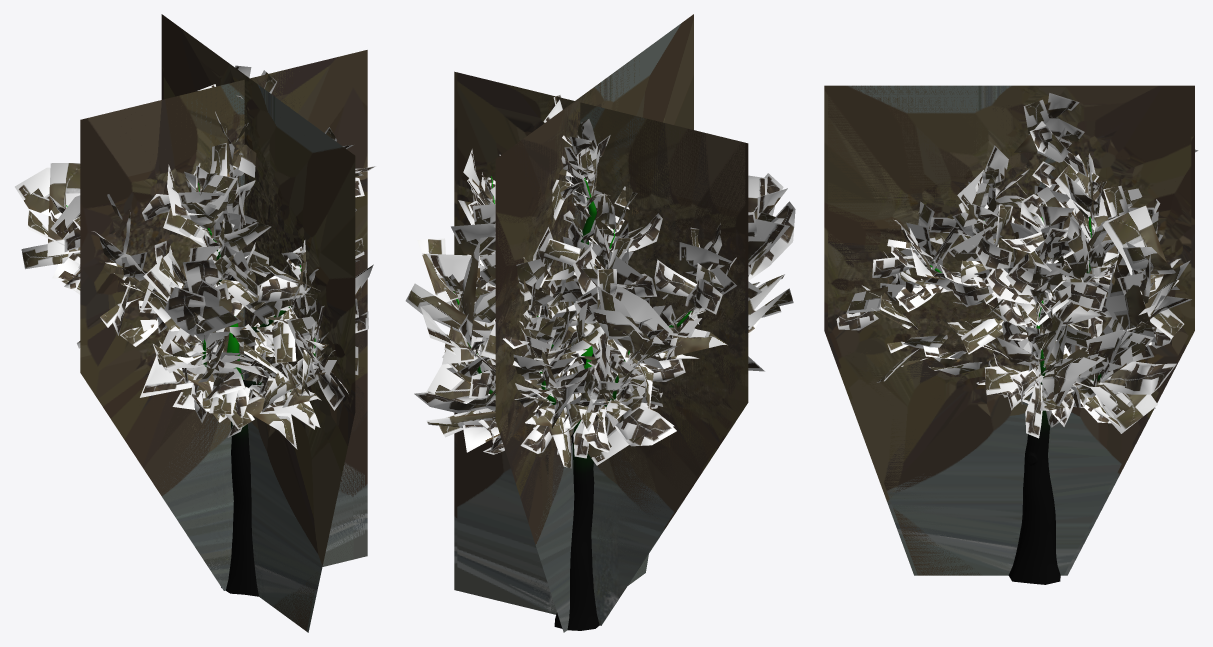
The model's file is RTree1.fbx.
The picture shows the model from 3 angles, left to right: view 1: azimuth 30°, elevation 25°; view 2: azimuth 150°, elevation 25°; view 3: azimuth 270°, elevation 25°; orthographic projection. The views are drawn at different scales.
Parts seen in each view (by area): view 1: Billboard, LOD0; view 2: Billboard, LOD0; view 3: Billboard, LOD0.
Part boxes in pixels (x1=…): Billboard: x1=80, y1=14, x2=367, y2=632; LOD0: x1=15, y1=65, x2=375, y2=596; Billboard: x1=454, y1=14, x2=748, y2=632; LOD0: x1=405, y1=94, x2=795, y2=630; Billboard: x1=824, y1=85, x2=1194, y2=575; LOD0: x1=836, y1=93, x2=1198, y2=584.
Size of what is drawn, in the model's own units: 561 by 946 by 656.
